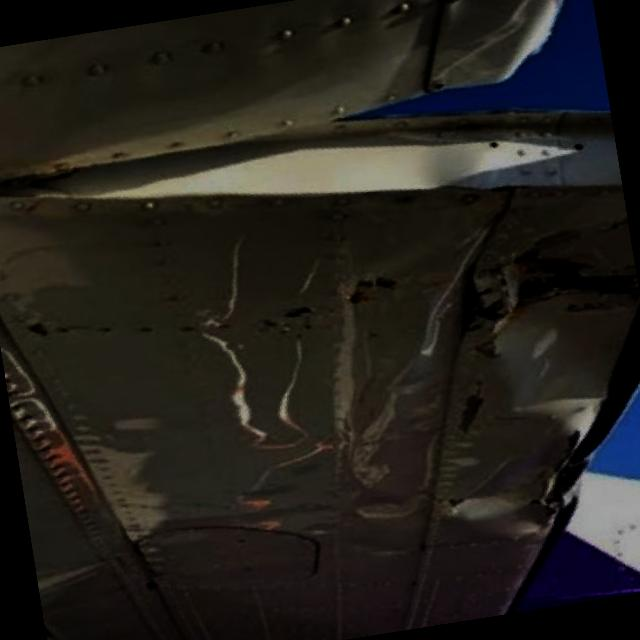dent: (443, 438, 574, 566)
